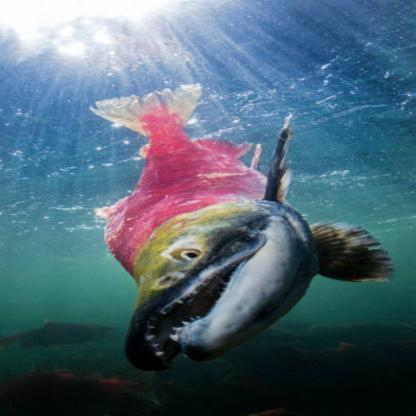sockeye: (79, 86, 391, 364)
